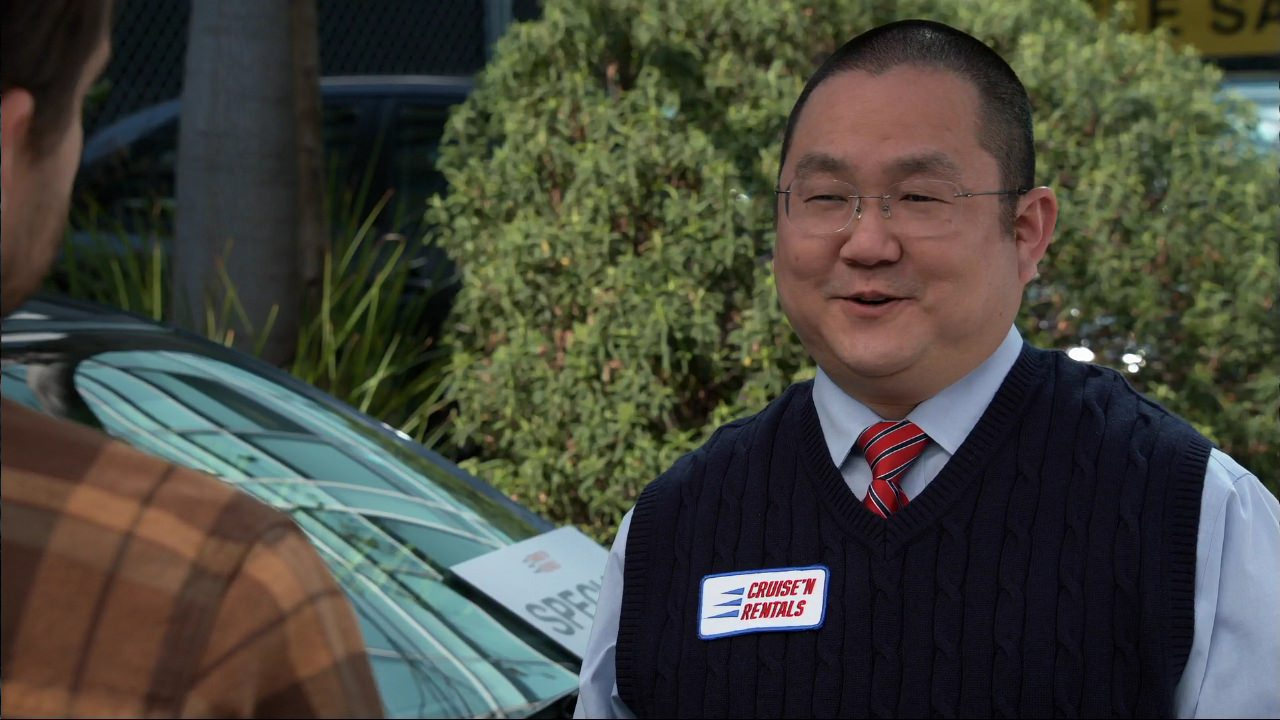person: (600, 22, 1278, 715), (9, 5, 368, 720)
